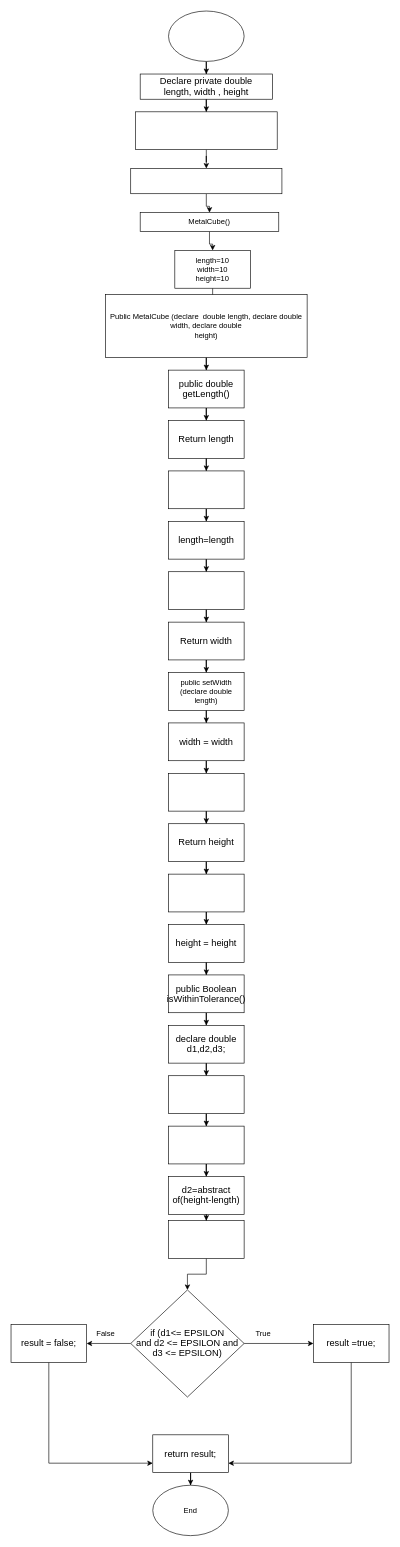
The diagram is 400 pixels wide and 1547 high, and some of its shapes have lost their labels. The box of each missing label's shape, as (x1, y1, x2, y2) in pixels:
d1=abstract of(width-height): (168, 1125, 244, 1164)
d3=abstract of(width-length): (168, 1220, 244, 1258)
declare boolean result=true;: (168, 1075, 244, 1114)
Declare private double EPSILON=0.1;: (135, 111, 277, 150)
Delare private double cubesize=10;: (130, 168, 282, 194)
public double getHeight(): (168, 773, 244, 811)
public double getWidth: (168, 571, 244, 610)
public setHeight (declare double height): (168, 873, 244, 912)
public setLength(declare double length): (168, 470, 244, 509)
start MetalCube: (168, 10, 244, 61)
